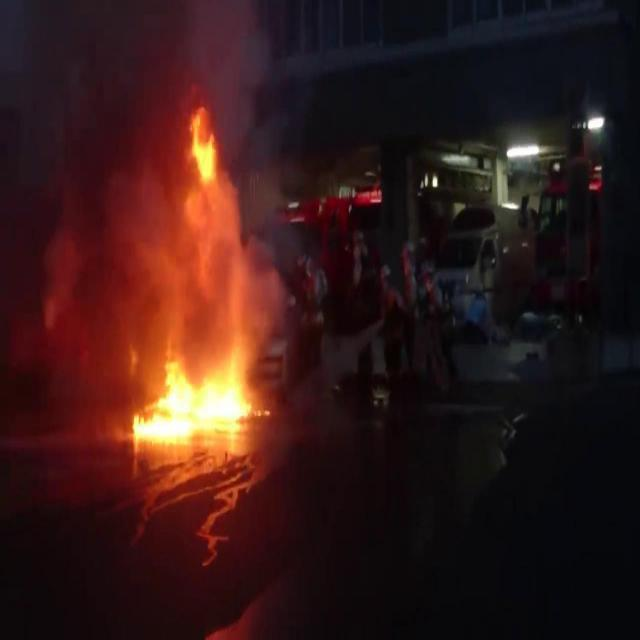Fire: (132, 358, 254, 440), (188, 110, 218, 179)
